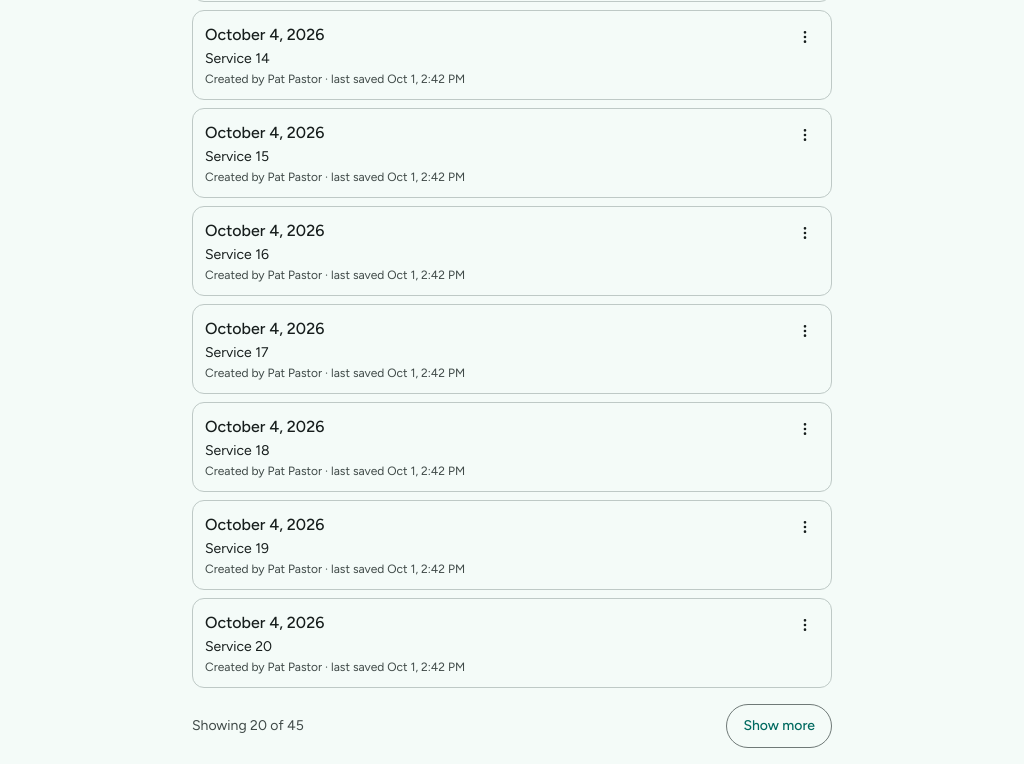
Test: Services (slice 5a-3) › after Show more, a delete reads every page again and the count follows; an undated row's menu names its occasion
(page scrolled)
Expected: the text "Showing 20 of 45" is shown, [192,716,304,736]
Click the button "Show more" at x=779, y=726, box [726,704,832,748]
(page scrolled)
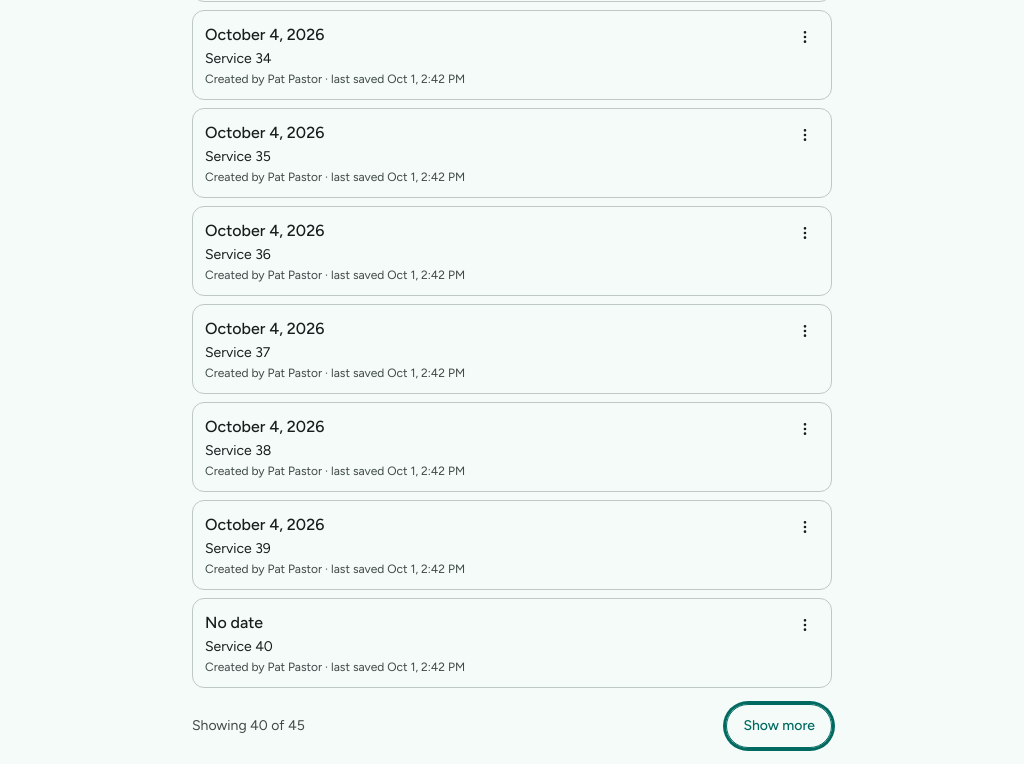
Expected: the text "Showing 40 of 45" is shown, [192,716,305,736]
Click the button named "More actions for No date, Service 40" at x=805, y=625, box [783,603,827,647]
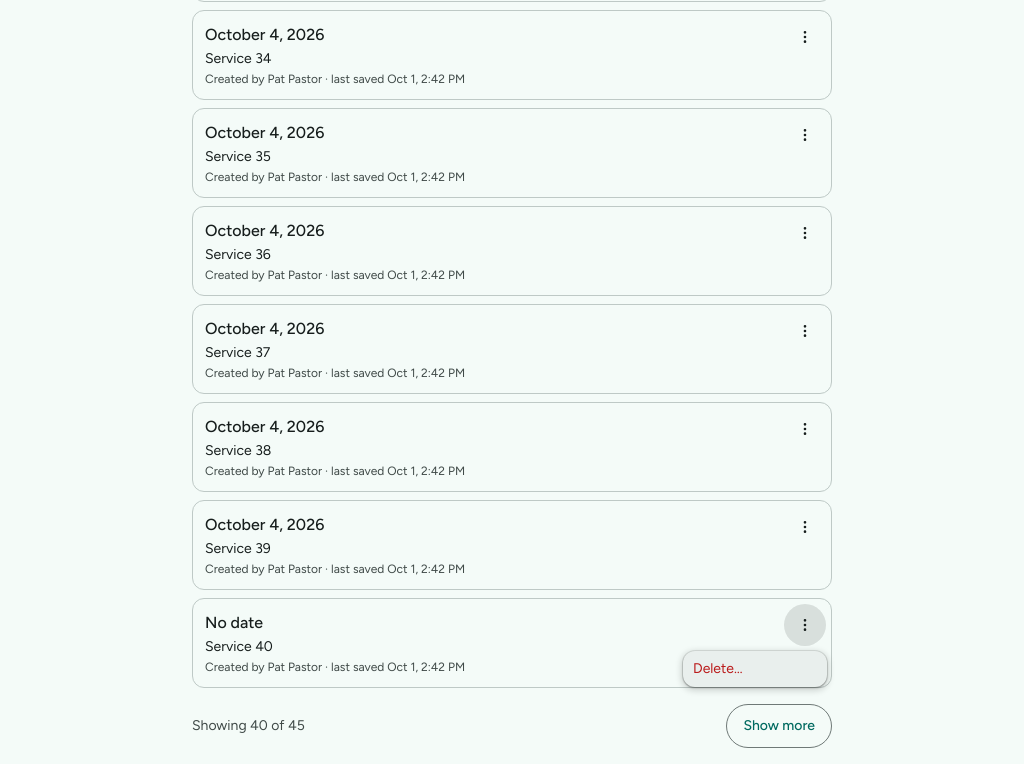
Click the menu item "Delete…" at x=718, y=668, box [693,660,742,677]
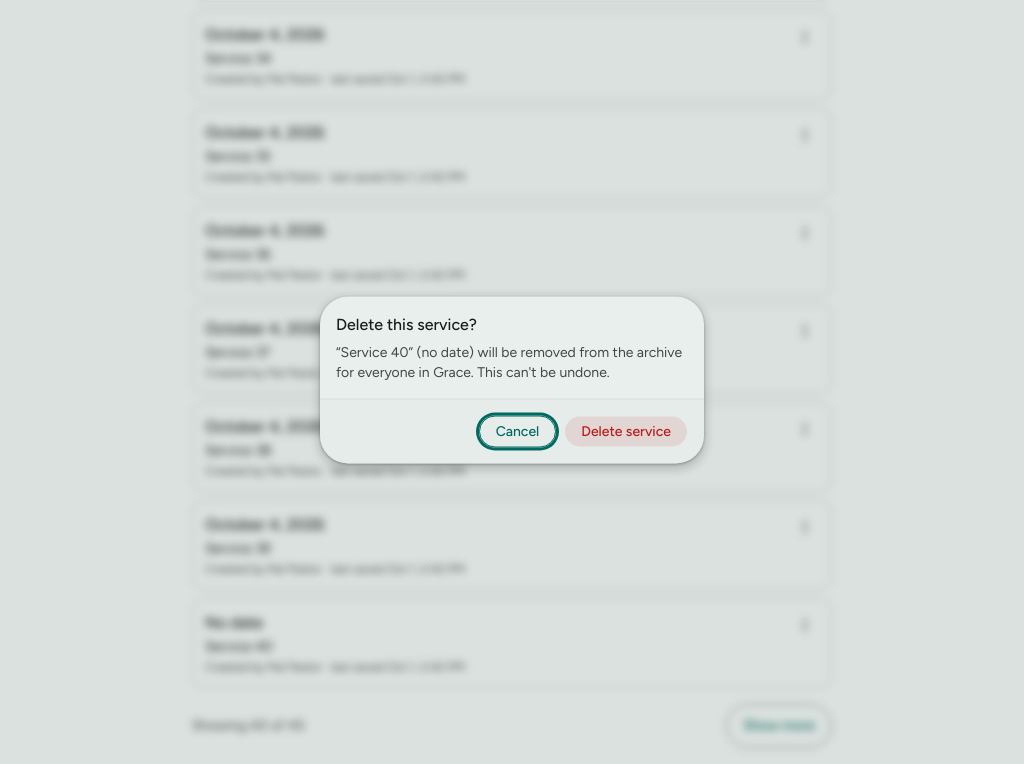
Click the button "Delete service" at x=626, y=432, box [564,416,688,448]
(page scrolled)
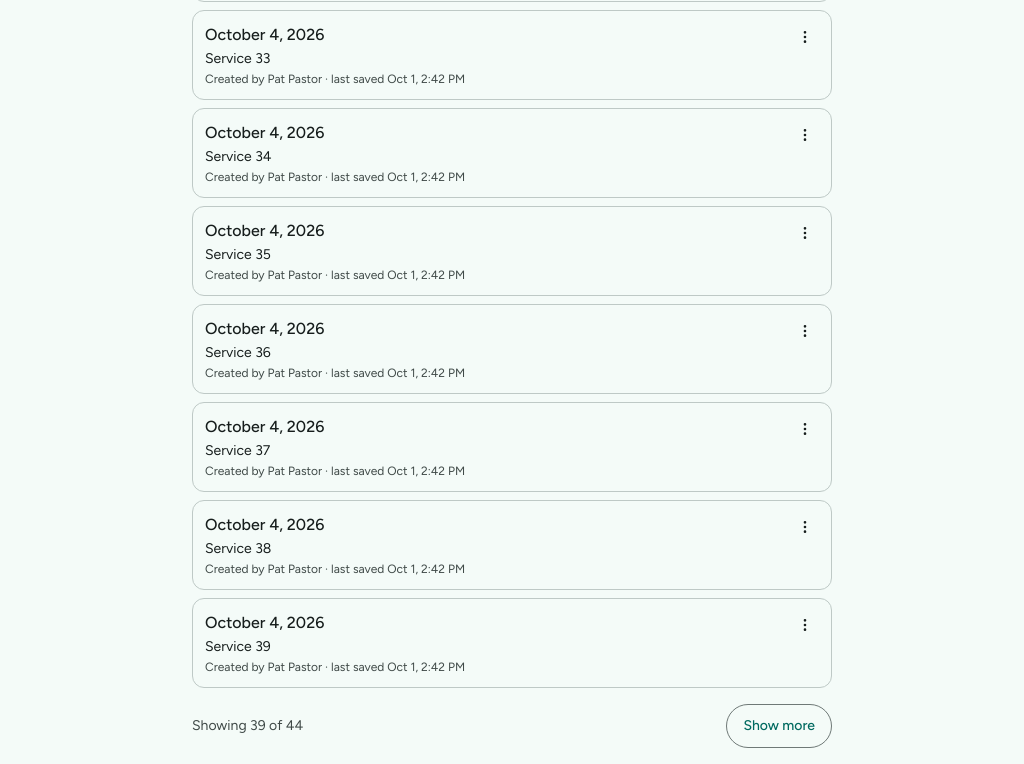
Expected: the text "Showing 39 of 44" is shown, [192,716,303,736]
Expected: the dialog is gone
Expected: the button "Service 40" is gone
